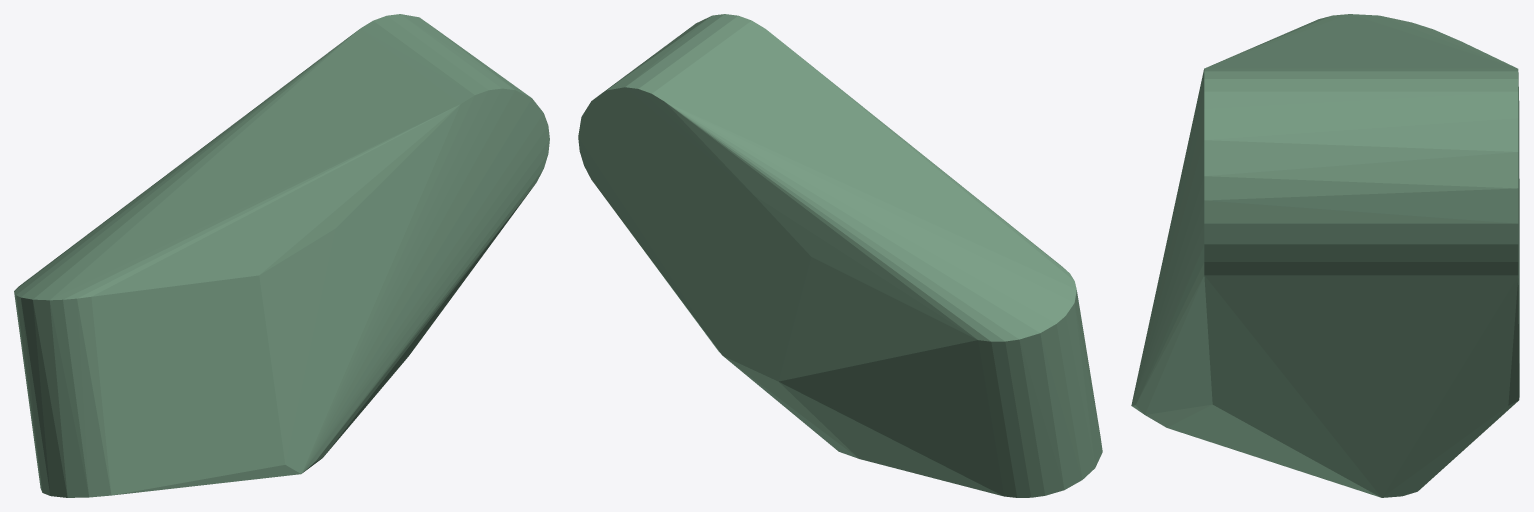
File: thumb-F1-MIR_C_collision000.obj
3 views of the same model, side by side, from view 1: azimuth 30°, elevation 25°; view 2: azimuth 150°, elevation 25°; view 3: azimuth 270°, elevation 25° (orthographic). The views are drawn at different scales.
Size of the model in its own units: 0.0377 by 0.0275 by 0.0178.
